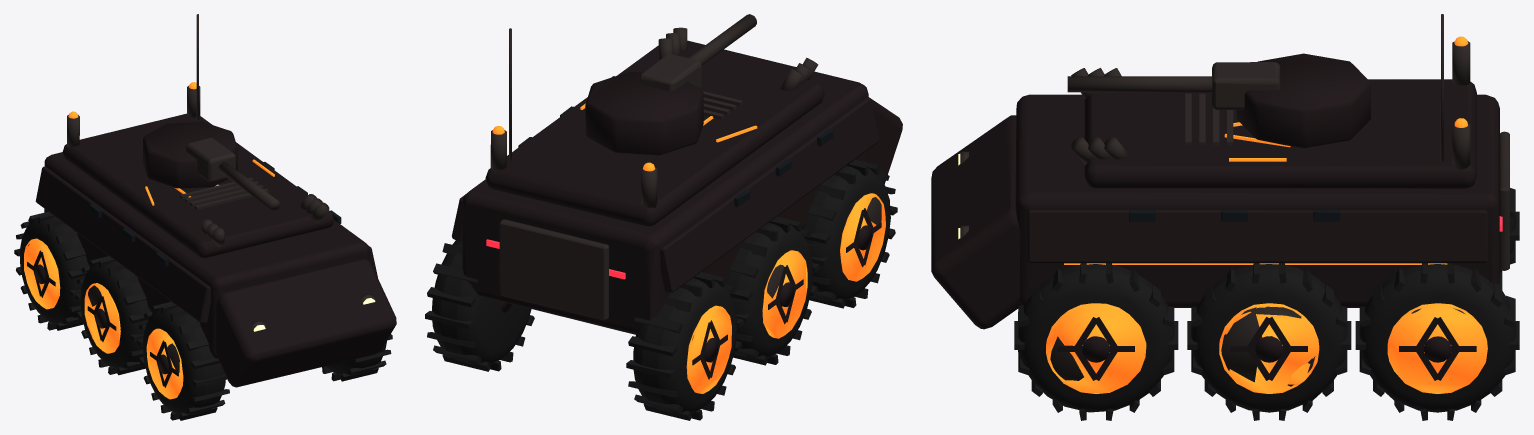
Rendered from apc_lava.glb.
3 views of the same model, side by side, from view 1: azimuth 30°, elevation 25°; view 2: azimuth 150°, elevation 25°; view 3: azimuth 270°, elevation 25° (orthographic). The views are drawn at different scales.
Parts seen in each view (by area): view 1: krop_net; view 2: krop_net; view 3: krop_net.
Part boxes in pixels (<box>): krop_net: <box>14,14,396,420</box>; krop_net: <box>425,14,902,420</box>; krop_net: <box>931,14,1519,420</box>.
Size of the model in its own units: 1.21 by 1.54 by 2.17.
